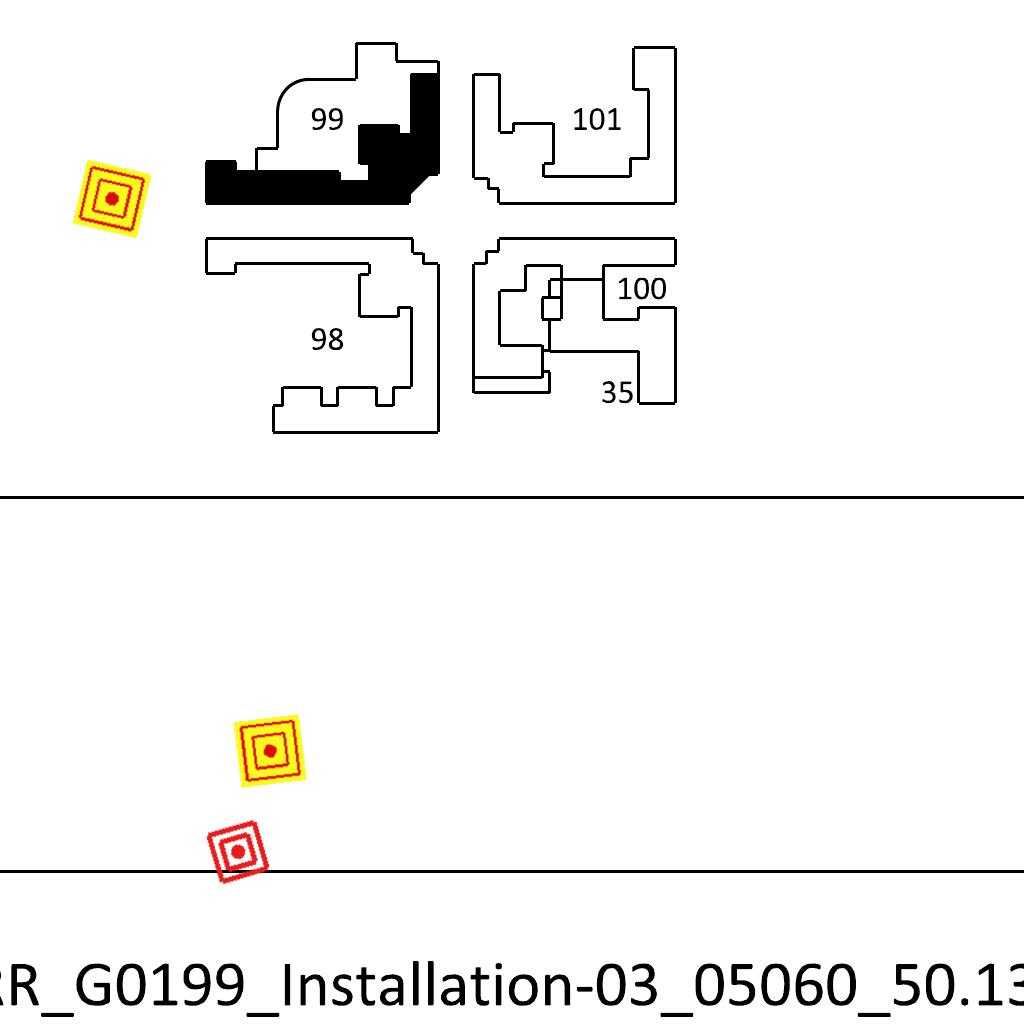NAM-Nichtautomatischer_Melder: (72, 159, 152, 239), (233, 714, 307, 788), (203, 817, 273, 887)
